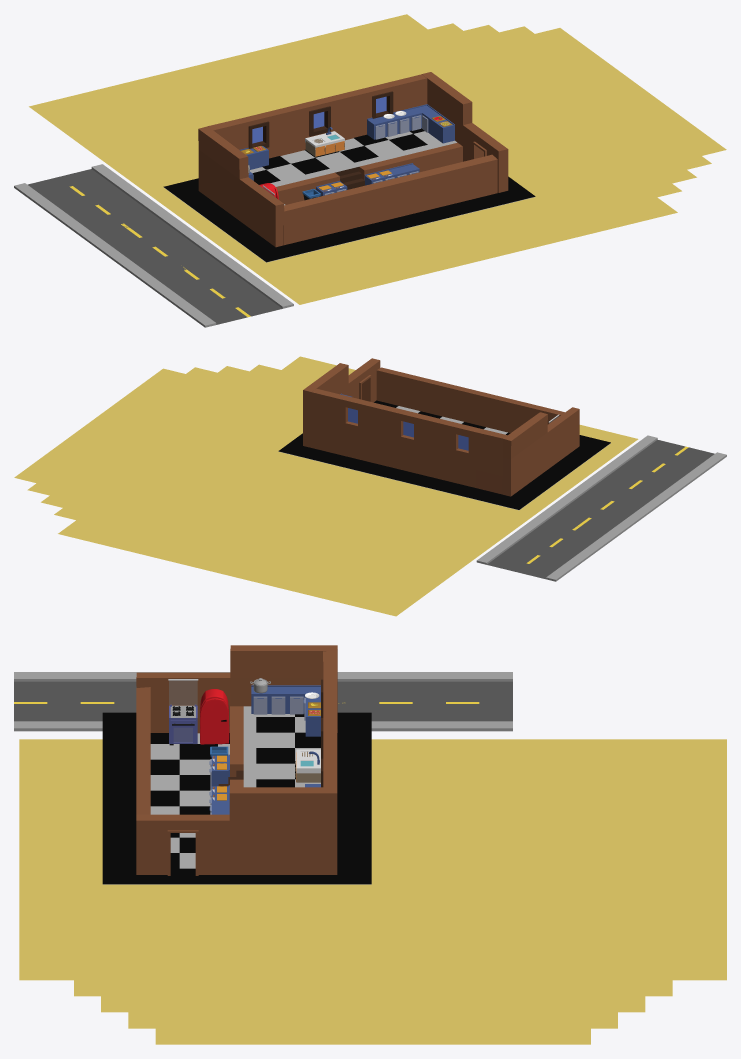
File: Cozinha.fbx
3 views of the same model, one above another, from view 1: azimuth 30°, elevation 25°; view 2: azimuth 150°, elevation 25°; view 3: azimuth 270°, elevation 25° (orthographic). The views are drawn at different scales.
Visible parts, largest first — view 1: Fase Cozinha, Rua Reta, Piso, Paredes.005, Paredes.002, Paredes.001, Paredes.003, Paredes, Bancada.004, Pia, Bancada de alimentos.001; view 2: Fase Cozinha, Rua Reta, Paredes.002, Paredes.005, Piso, Paredes.001, Paredes.003; view 3: Fase Cozinha, Piso, Rua Reta, Paredes.003, Paredes.001, Paredes.002, Paredes.005, Fogao, Bancada, PORTA GELADEIRA.001, Paredes, Pia.
Boxes of the visible parts, bbox=[...] form: Fase Cozinha: bbox=[29, 14, 726, 304]; Rua Reta: bbox=[14, 164, 293, 327]; Piso: bbox=[163, 128, 535, 262]; Paredes.005: bbox=[283, 154, 497, 245]; Paredes.002: bbox=[208, 74, 427, 158]; Paredes.001: bbox=[198, 126, 284, 247]; Paredes.003: bbox=[422, 72, 508, 192]; Paredes: bbox=[276, 142, 462, 204]; Bancada.004: bbox=[367, 104, 433, 139]; Pia: bbox=[305, 127, 344, 156]; Bancada de alimentos.001: bbox=[429, 114, 454, 143]; Fase Cozinha: bbox=[14, 356, 638, 616]; Rua Reta: bbox=[476, 435, 726, 581]; Paredes.002: bbox=[311, 388, 507, 494]; Paredes.005: bbox=[376, 367, 564, 432]; Piso: bbox=[278, 400, 610, 510]; Paredes.001: bbox=[502, 407, 579, 496]; Paredes.003: bbox=[303, 358, 380, 447]; Fase Cozinha: bbox=[19, 739, 726, 1044]; Piso: bbox=[102, 706, 371, 884]; Rua Reta: bbox=[14, 672, 512, 731]; Paredes.003: bbox=[136, 787, 337, 875]; Paredes.001: bbox=[136, 645, 337, 733]; Paredes.002: bbox=[321, 651, 337, 787]; Paredes.005: bbox=[136, 687, 150, 814]; Fogao: bbox=[168, 679, 198, 745]; Bancada: bbox=[251, 685, 320, 714]; PORTA GELADEIRA.001: bbox=[200, 698, 229, 744]; Paredes: bbox=[230, 706, 243, 787]; Pia: bbox=[295, 749, 320, 782].
Bounding box in the file's own units: 4199 × 574 × 3450.
